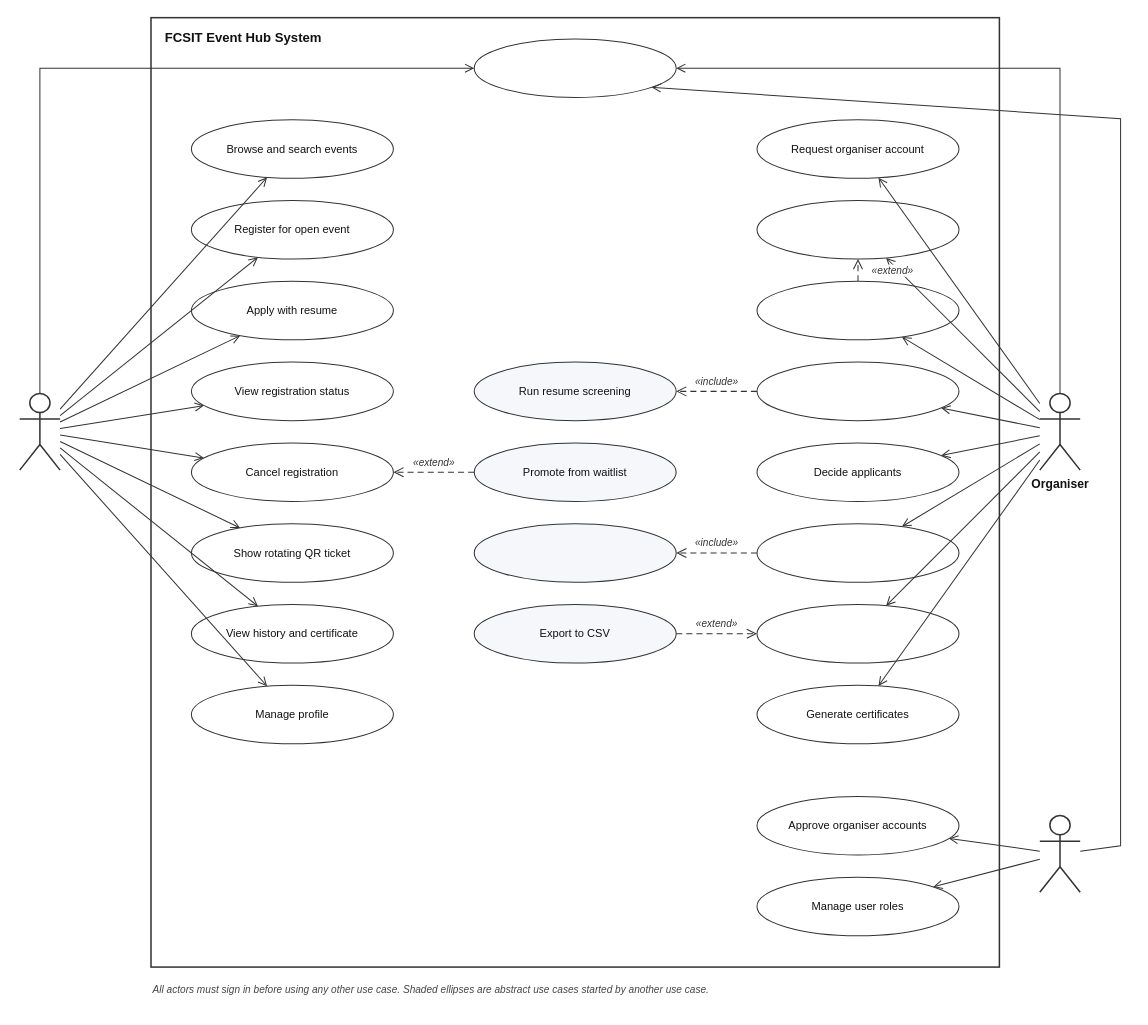
Some shapes in this 1148 by 1025 pixel diagram are drawn without their labels. The shapes that lost their labels are listed below. From the top down, each one's centre as x and y in pixels, then its label:
At point (574, 67): "Sign up and sign in".
At point (857, 229): "Create and manage event".
At point (857, 310): "Set screening criteria".
At point (857, 391): "Review ranked applicants".
At point (39, 431): "Student".
At point (574, 552): "Validate ticket".
At point (857, 552): "Scan QR ticket".
At point (857, 633): "View attendance report".
At point (1059, 853): "Admin".
